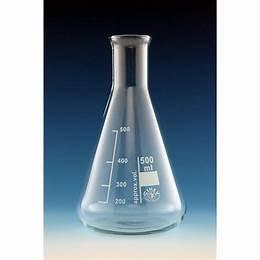Titrarion: (76, 17, 191, 232)
